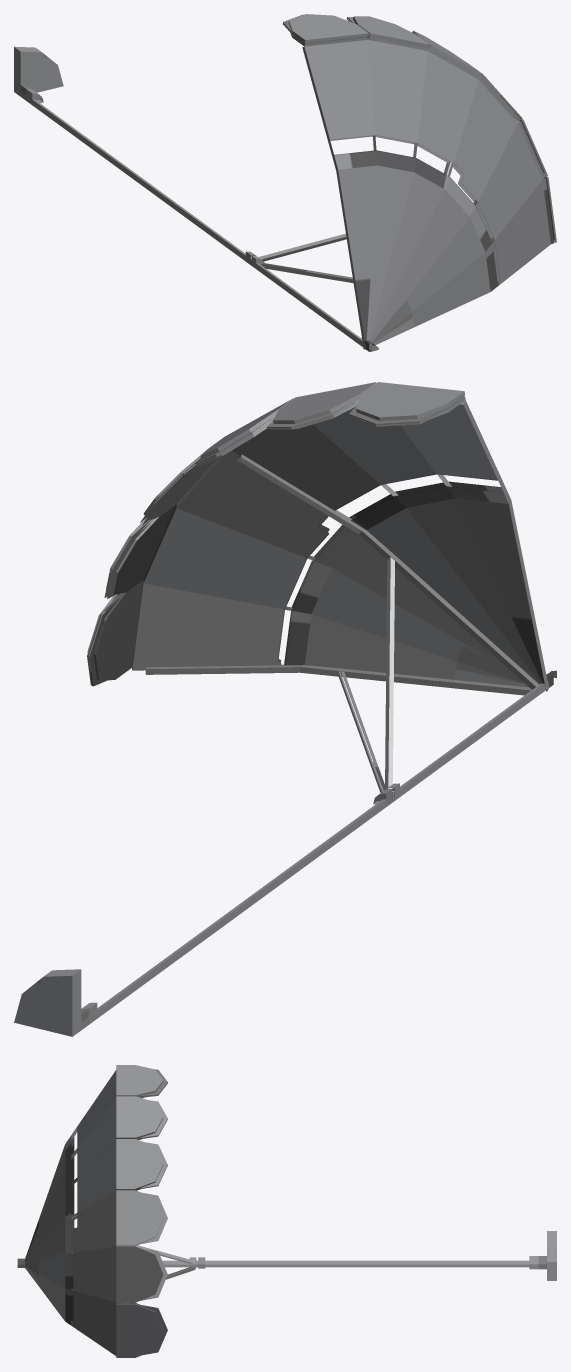
3 views of the same model, one above another, from view 1: azimuth 30°, elevation 25°; view 2: azimuth 150°, elevation 25°; view 3: azimuth 270°, elevation 25° (orthographic). The views are drawn at different scales.
Bounding box in the file's own units: 0.9983 × 1 × 2.44.
